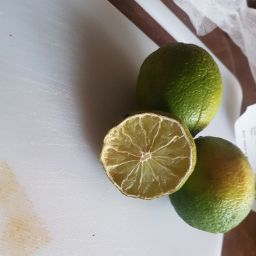Lemon: (122, 40, 228, 141), (89, 108, 201, 200), (162, 128, 256, 237)
